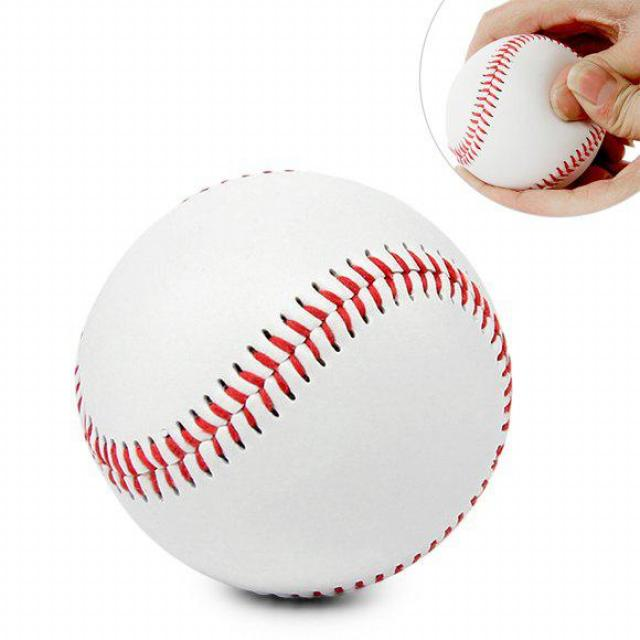baseball: (80, 169, 514, 603), (448, 32, 604, 186)
